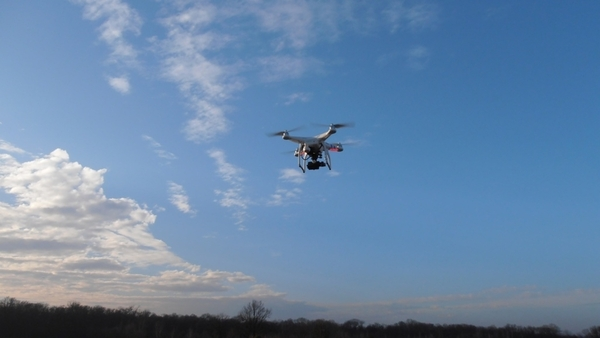drone: (267, 121, 359, 174)
